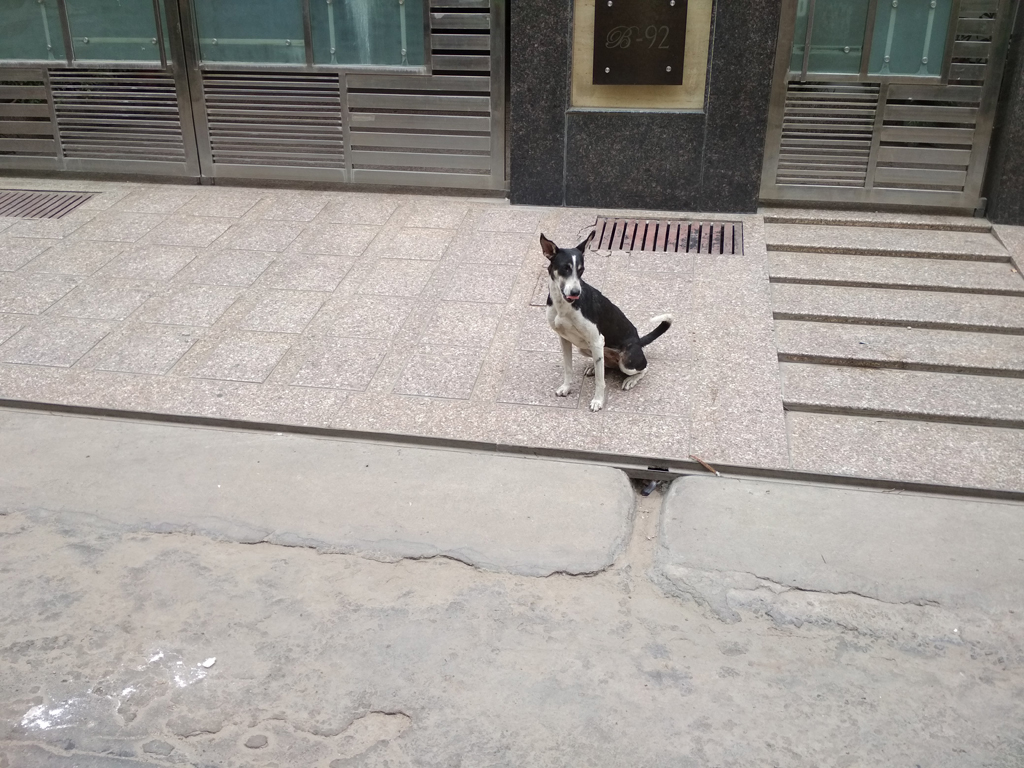dog: (539, 228, 674, 413)
